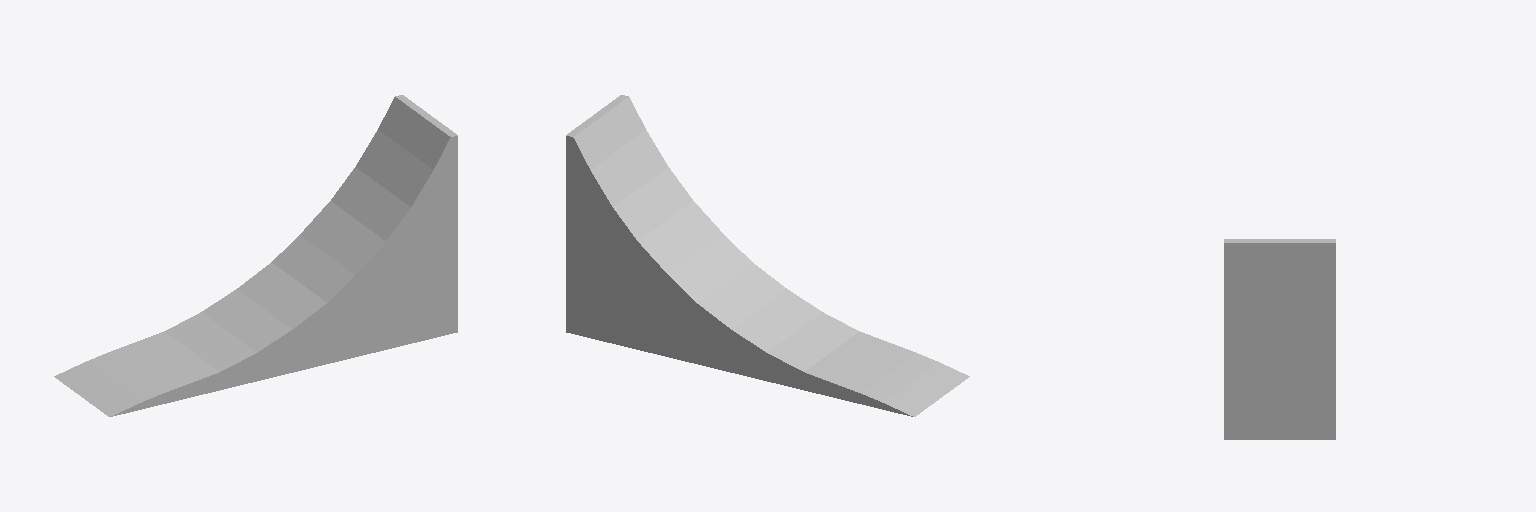
Rendered from Ramp_mid_cs.obj.
3 views of the same model, side by side, from view 1: azimuth 30°, elevation 25°; view 2: azimuth 150°, elevation 25°; view 3: azimuth 270°, elevation 25° (orthographic).
Visible parts, largest first — view 1: collisonbox_Smooth_Cube.001; view 2: collisonbox_Smooth_Cube.001; view 3: collisonbox_Smooth_Cube.001.
Boxes of the visible parts, <box> form: collisonbox_Smooth_Cube.001: <box>54,95,457,416</box>; collisonbox_Smooth_Cube.001: <box>566,95,969,416</box>; collisonbox_Smooth_Cube.001: <box>1224,239,1335,439</box>.
Bounding box in the file's own units: 7.25 × 3.91 × 2.01.